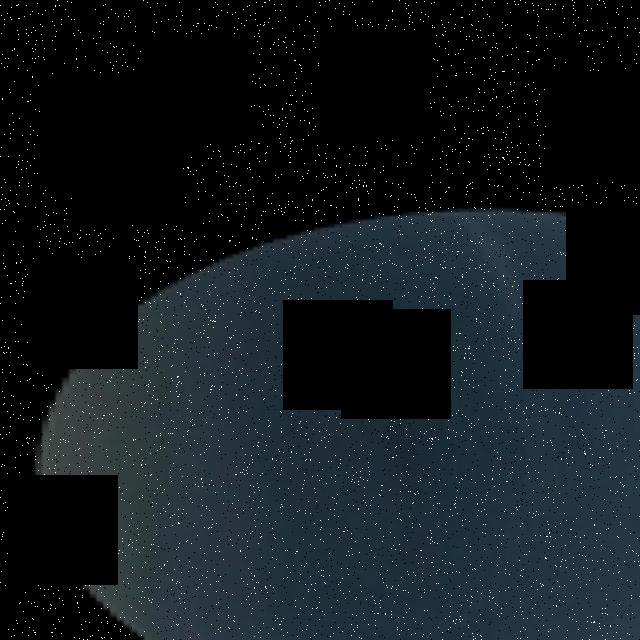Uranus: (27, 204, 640, 640)
